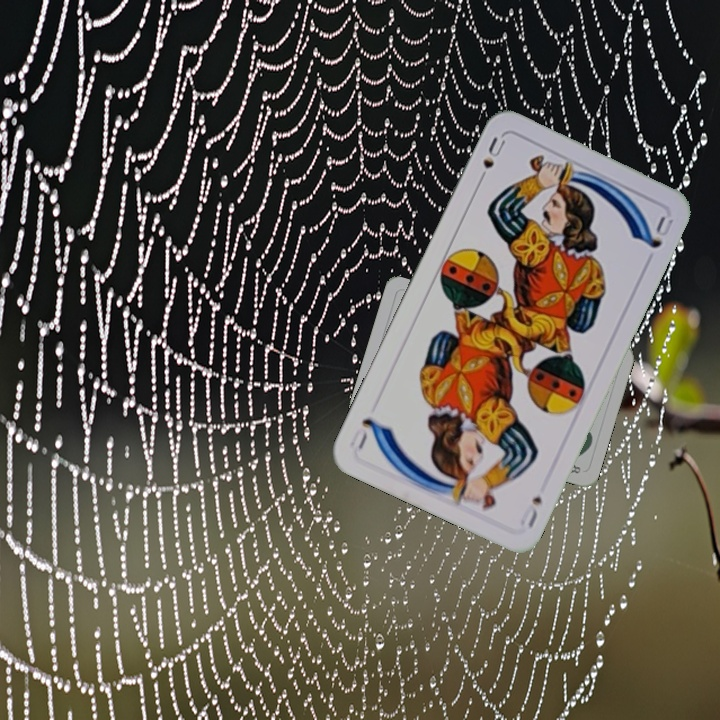SU: (474, 133, 508, 188), (515, 492, 545, 531)
